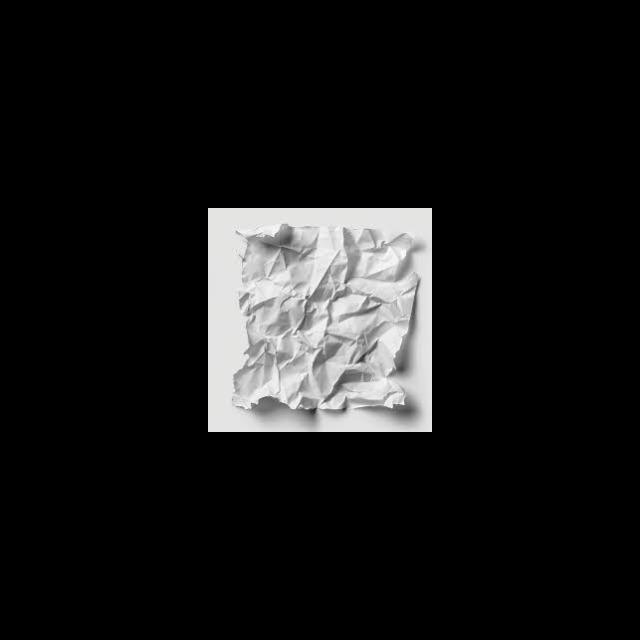paper: (224, 210, 431, 432)
